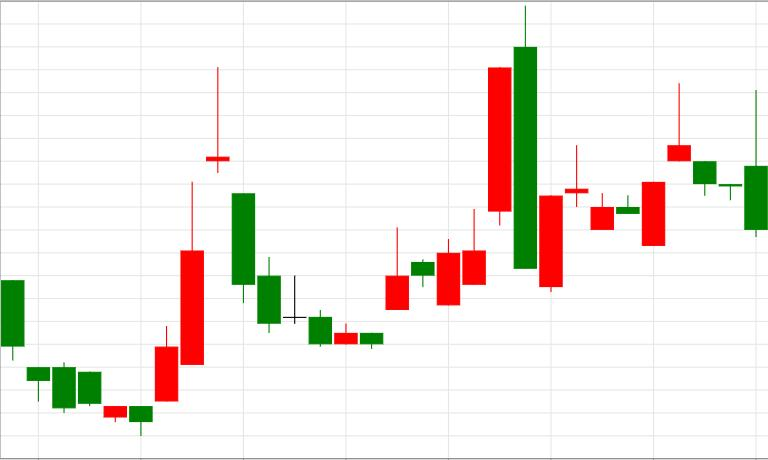bearish_engulfing_fall: (386, 6, 537, 310)
evening_star_fall: (129, 68, 255, 436)
